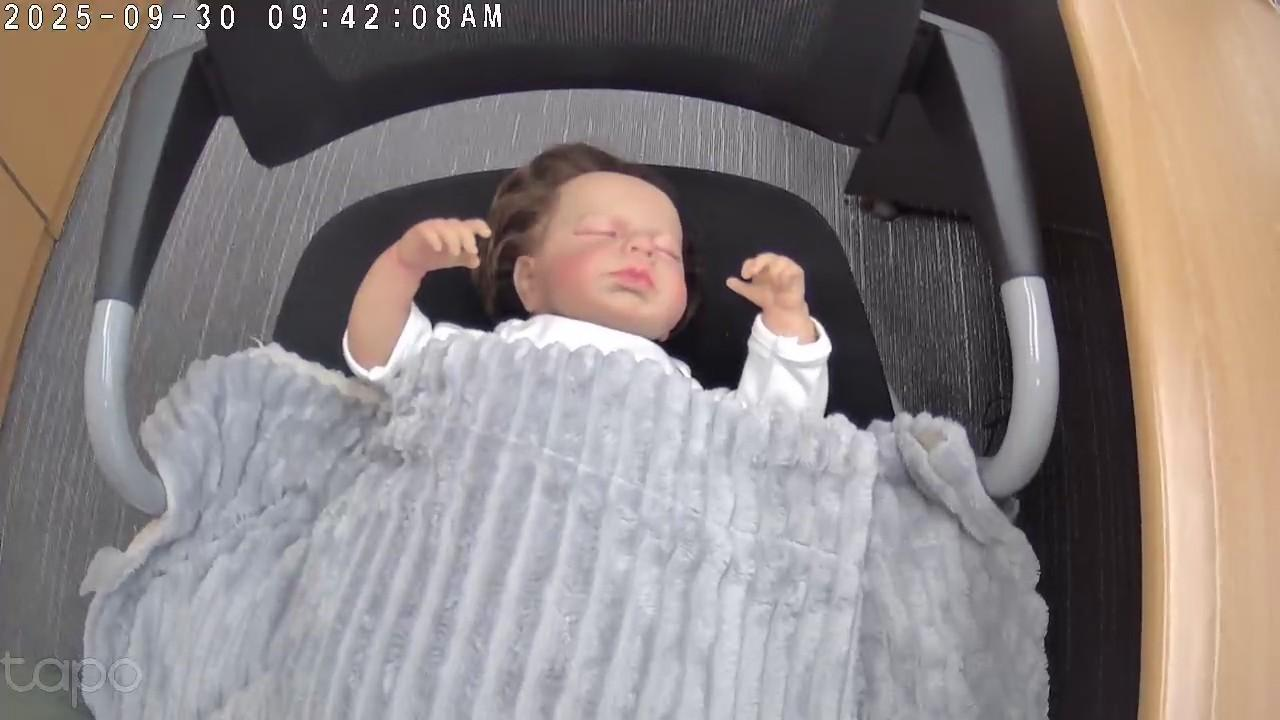hand: (722, 253, 809, 322), (398, 215, 492, 275)
